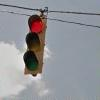traffic lights: (21, 14, 49, 76)
